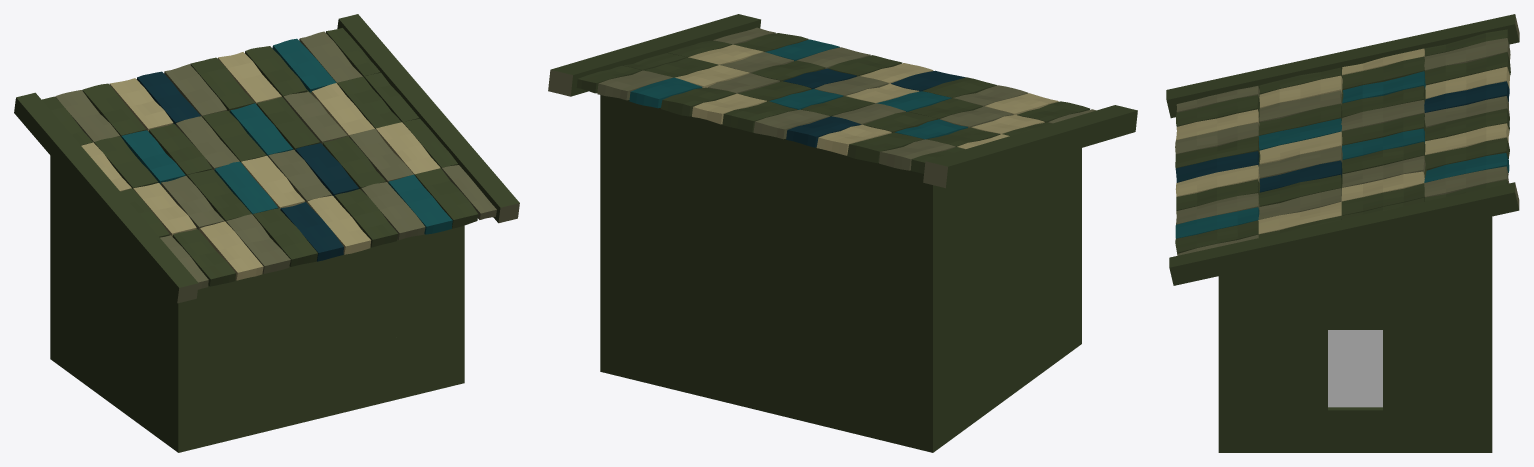
Rendered from skinninghouse.fbx.
3 renders of one model, left to right at view 1: azimuth 30°, elevation 25°; view 2: azimuth 150°, elevation 25°; view 3: azimuth 270°, elevation 25°, orthographic. The views are drawn at different scales.
Visible parts, largest first — view 1: SkinningHouseTop, SkinningHouseBot; view 2: SkinningHouseTop, SkinningHouseBot; view 3: SkinningHouseTop, SkinningHouseBot, SkinningHouseBuildingTrigger.
Boxes of the visible parts, x1,y1,x2,y2 form: SkinningHouseTop: (14, 14, 519, 390); SkinningHouseBot: (50, 297, 464, 452); SkinningHouseTop: (548, 14, 1137, 380); SkinningHouseBot: (600, 272, 1081, 452); SkinningHouseTop: (1166, 14, 1519, 386); SkinningHouseBot: (1218, 386, 1492, 452); SkinningHouseBuildingTrigger: (1328, 330, 1382, 407).
Size of what is drawn, in the model's own units: 10.08 by 8.43 by 7.31.
